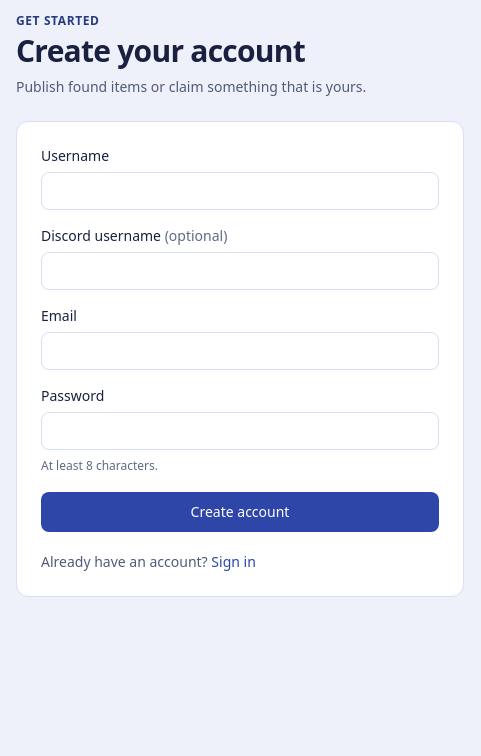
RegisterPage validation › renders field errors for invalid input and blocks the submit
Type "ab" into the field labelled "Username" at [240, 191], box [41,172,439,210]
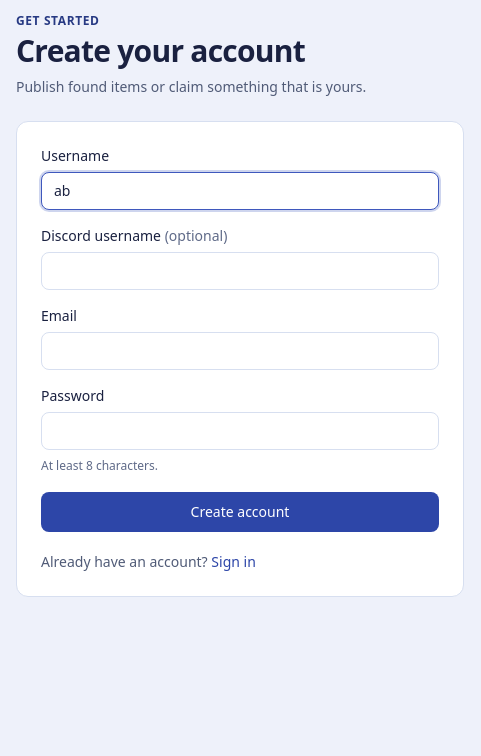
Type "x" into the field labelled "Discord username (optional)" at [240, 271], box [41,252,439,290]
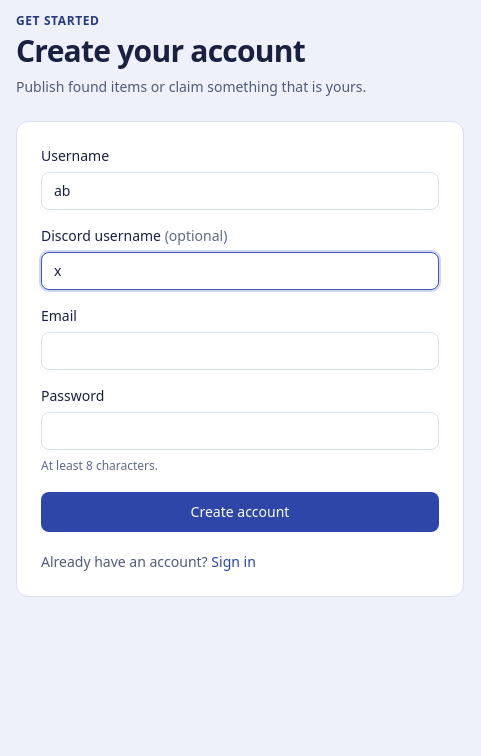
Type "not-an-email" into the field labelled "Email" at [240, 351], box [41,332,439,370]
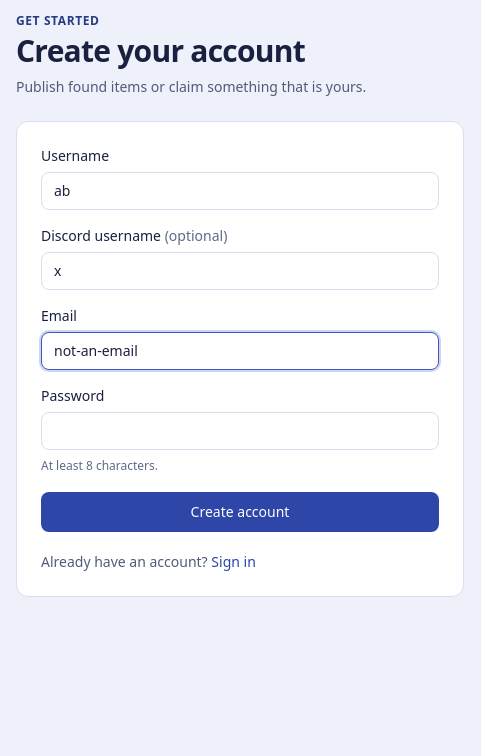
Type "short" into the password field labelled "Password" at [240, 431], box [41,412,439,450]
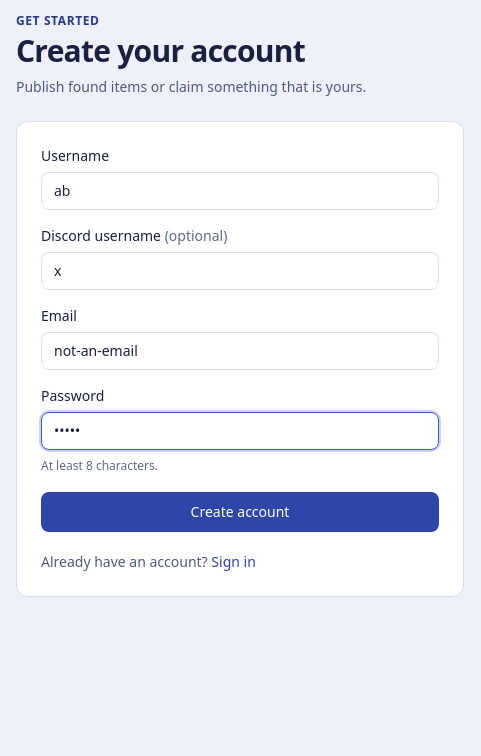
Click the button "Create account" at [240, 512], box [41,492,439,532]
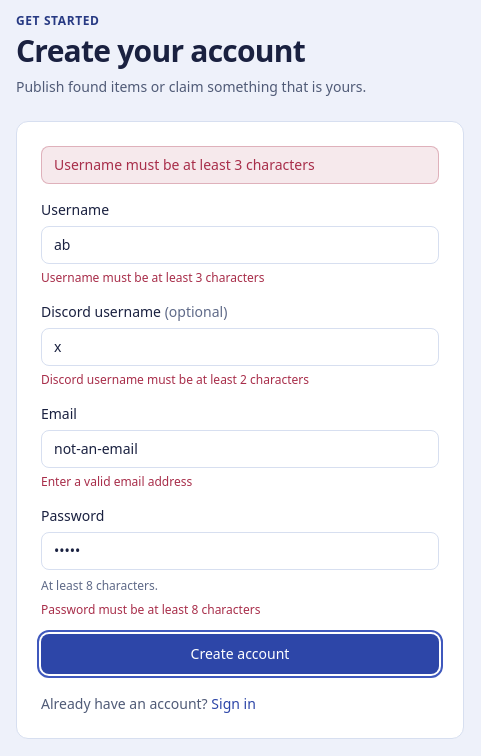
Expected: the text "Username must be at least 3 characters" is shown, [41,269,264,286]
Expected: the text "Discord username must be at least 2 characters" is shown, [41,371,309,388]
Expected: the text "Enter a valid email address" is shown, [41,473,192,490]
